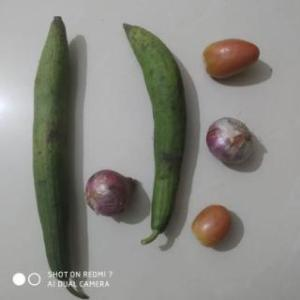onion: (202, 116, 262, 168), (86, 170, 138, 220)
